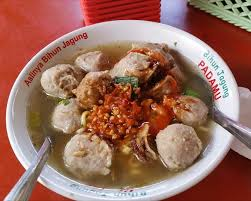bakso: (22, 44, 230, 185)
